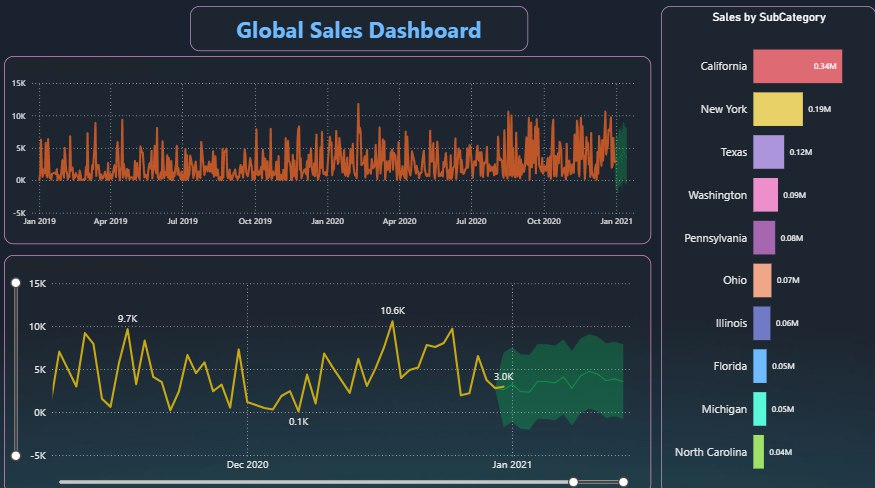

This screenshot's page, from the dashboard's own definition file:
{"tool":"powerbi","page":{"name":"Page 2","canvas":[1280,720],"ordinal":1},"visuals":[{"type":"lineChart","fields":{"Y":["Sum(SuperStore_Sales_Dataset.Sales)"],"Category":["SuperStore_Sales_Dataset.Order Date"]},"box":[14.4,89.3,931.7,270.7],"z":0},{"type":"lineChart","fields":{"Y":["Sum(SuperStore_Sales_Dataset.Sales)"],"Category":["SuperStore_Sales_Dataset.Order Date"]},"box":[14.4,375.8,931.7,344.2],"z":1000},{"type":"clusteredBarChart","title":"Sales by SubCategory","fields":{"Y":["Sum(SuperStore_Sales_Dataset.Sales)"],"Category":["SuperStore_Sales_Dataset.State"]},"box":[960.5,17.3,309.6,702.7],"z":1001},{"type":"textbox","box":[282.2,17.3,486.7,64.8],"z":1003}]}

Visuals, with their boxes in screenshot pixels (x1, y1, x2, y2), scaled from the page's 1280x720 canvas onto the 875x488 screenshot:
lineChart - Sum(SuperStore_Sales_Dataset.Sales) x SuperStore_Sales_Dataset.Order Date: <bbox>10, 61, 647, 244</bbox>
lineChart - Sum(SuperStore_Sales_Dataset.Sales) x SuperStore_Sales_Dataset.Order Date: <bbox>10, 255, 647, 487</bbox>
"Sales by SubCategory" clusteredBarChart: <bbox>657, 12, 868, 487</bbox>
textbox: <bbox>193, 12, 526, 56</bbox>
